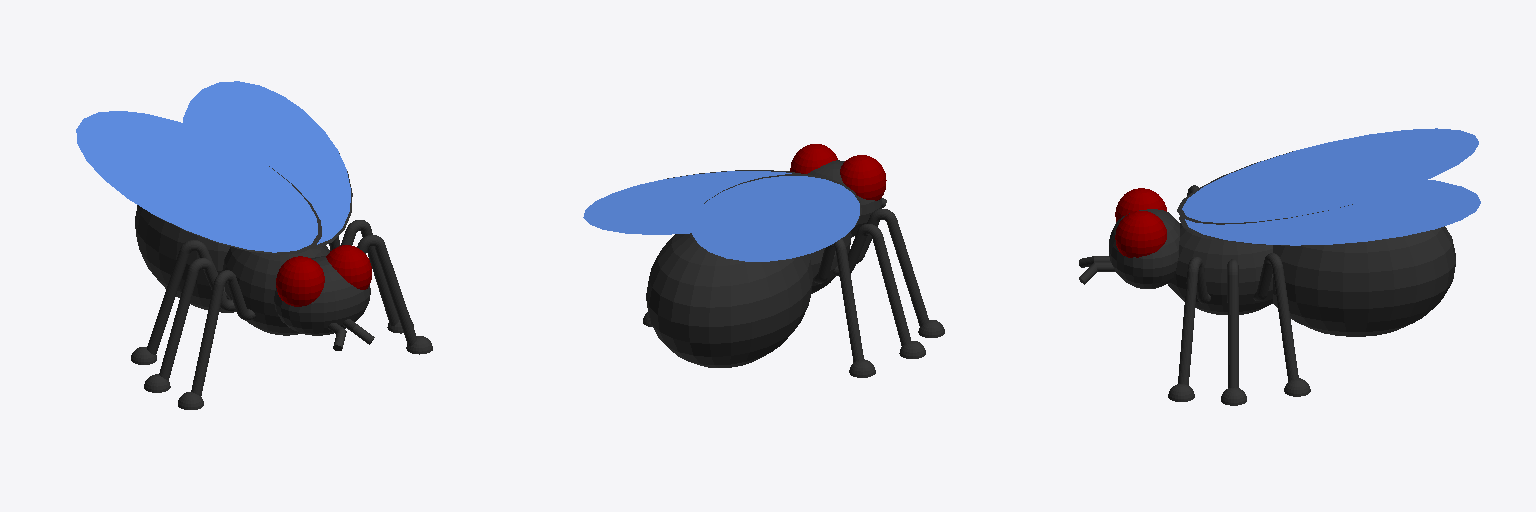
The model's file is fly.obj.
3 views of the same model, side by side, from view 1: azimuth 30°, elevation 25°; view 2: azimuth 150°, elevation 25°; view 3: azimuth 270°, elevation 25° (orthographic).
Visible parts, largest first — view 1: instance_11.001_ID109, instance_10.001_ID109, group_1_ID5, group_1.001_ID13, instance_7_ID38, instance_0_ID21, instance_3_ID38, instance_1_ID38, instance_5_ID59, instance_8_ID21, instance_9_ID59; view 2: group_1_ID5, instance_11.001_ID109, instance_10.001_ID109, instance_3_ID38, instance_1_ID38, instance_7_ID38, instance_0_ID21, instance_8_ID21, group_1.001_ID13; view 3: group_1_ID5, instance_11.001_ID109, instance_10.001_ID109, group_1.001_ID13, instance_8_ID21, instance_2_ID59, instance_5_ID59, instance_9_ID59, instance_0_ID21.
Boxes of the visible parts, box(x1,y1,x2,y2) form: instance_11.001_ID109: box(76, 111, 317, 252); instance_10.001_ID109: box(183, 81, 350, 244); group_1_ID5: box(135, 205, 329, 335); group_1.001_ID13: box(274, 256, 370, 335); instance_7_ID38: box(191, 270, 255, 395); instance_0_ID21: box(276, 256, 324, 306); instance_3_ID38: box(159, 258, 235, 380); instance_1_ID38: box(147, 240, 228, 354); instance_5_ID59: box(357, 235, 416, 345); instance_8_ID21: box(326, 245, 371, 289); instance_9_ID59: box(341, 220, 398, 325); group_1_ID5: box(646, 231, 851, 367); instance_11.001_ID109: box(691, 176, 859, 261); instance_10.001_ID109: box(583, 171, 791, 234); instance_3_ID38: box(833, 224, 910, 345); instance_1_ID38: box(814, 238, 863, 362); instance_7_ID38: box(856, 209, 928, 326); instance_0_ID21: box(840, 155, 886, 200); instance_8_ID21: box(790, 144, 837, 173); group_1.001_ID13: box(807, 160, 881, 237); group_1_ID5: box(1168, 223, 1455, 336); instance_11.001_ID109: box(1182, 128, 1478, 222); instance_10.001_ID109: box(1185, 180, 1480, 245); group_1.001_ID13: box(1109, 209, 1179, 288); instance_8_ID21: box(1115, 211, 1166, 257); instance_2_ID59: box(1253, 253, 1298, 381); instance_5_ID59: box(1178, 257, 1210, 385); instance_9_ID59: box(1227, 259, 1238, 387); instance_0_ID21: box(1115, 188, 1166, 221).
Bounding box in the file's own units: 0.3894 × 0.2364 × 0.5095.